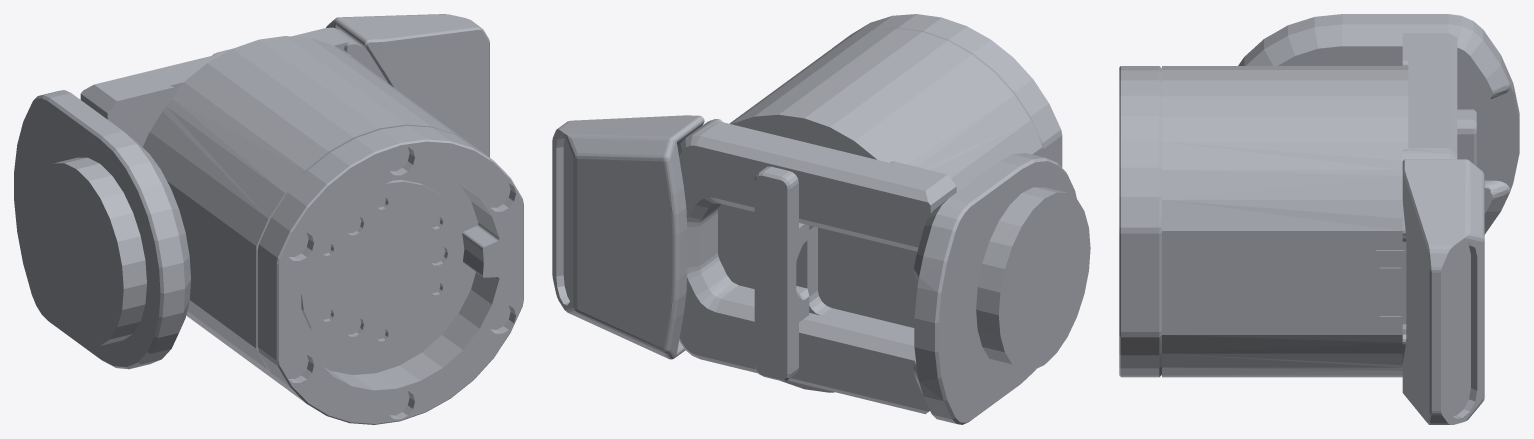
File: link_5__silver.glb
3 views of the same model, side by side, from view 1: azimuth 30°, elevation 25°; view 2: azimuth 150°, elevation 25°; view 3: azimuth 270°, elevation 25° (orthographic). The views are drawn at different scales.
Visible parts, largest first — view 1: link_5.STL; view 2: link_5.STL; view 3: link_5.STL.
Part boxes in pixels (left/top/right/bottom): link_5.STL: left=14, top=14, right=523, bottom=424; link_5.STL: left=552, top=14, right=1090, bottom=424; link_5.STL: left=1119, top=14, right=1519, bottom=424.
Size of the model in its own units: 0.098 by 0.057 by 0.0732.
1 material, 1 textured.
